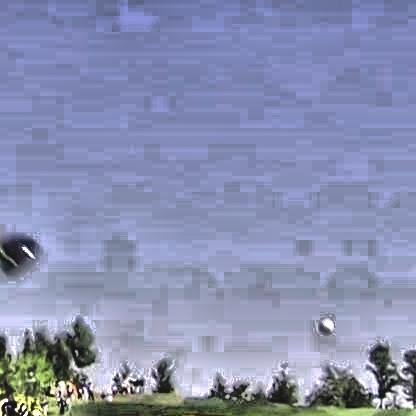golfball: (315, 314, 331, 333)
